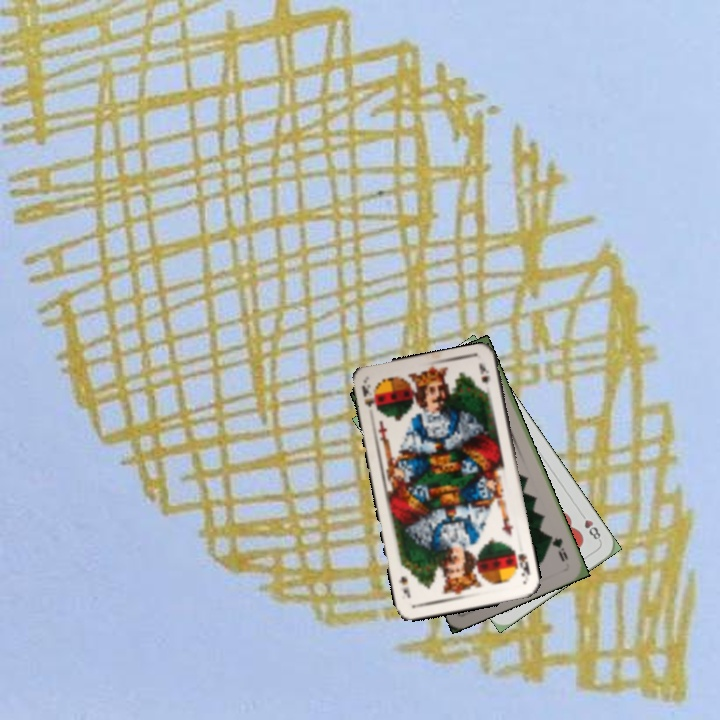G9: (546, 531, 571, 564)
H8: (576, 508, 603, 544)
SK: (358, 381, 381, 413), (514, 549, 532, 579)
